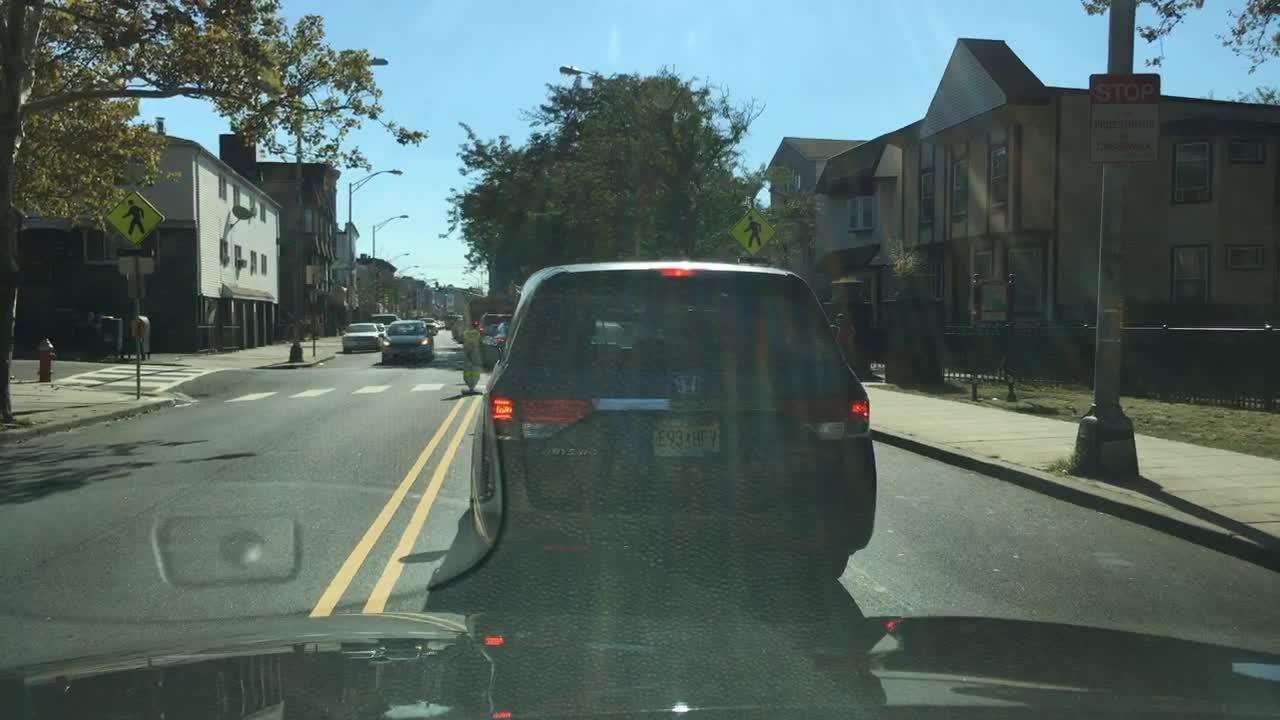Honda: (669, 370, 706, 398)
